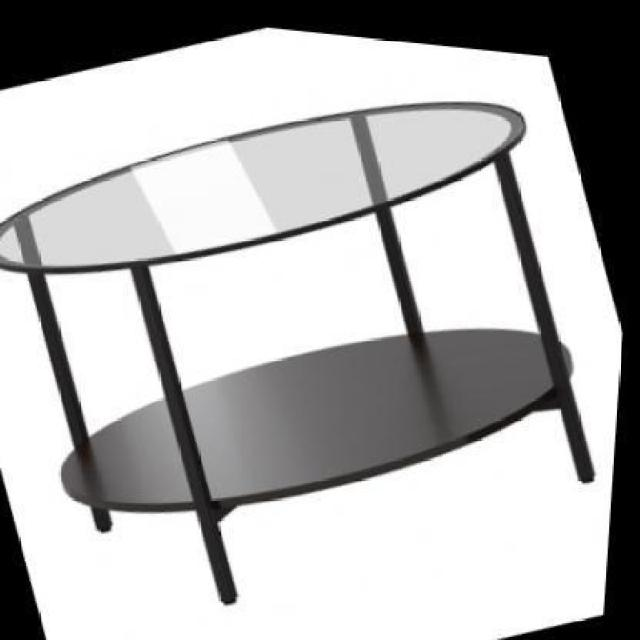tables: (0, 98, 595, 603)
